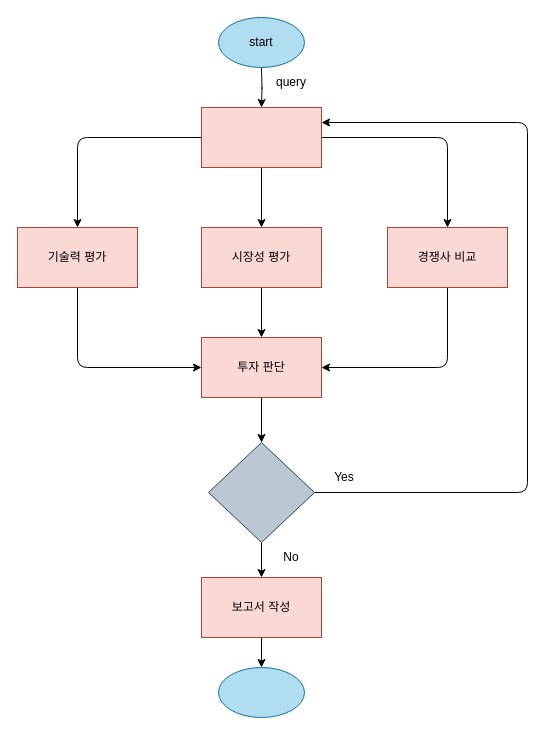
The diagram is 553 pixels wide and 735 high, and some of its shapes have lost their labels. The shapes that lost their labels are listed below. From the top down, each one's centre as x and y in pixels, then its label:
point 261,137: 스타트업 탐색
point 261,492: 미평가 기업 유무
point 261,692: end
